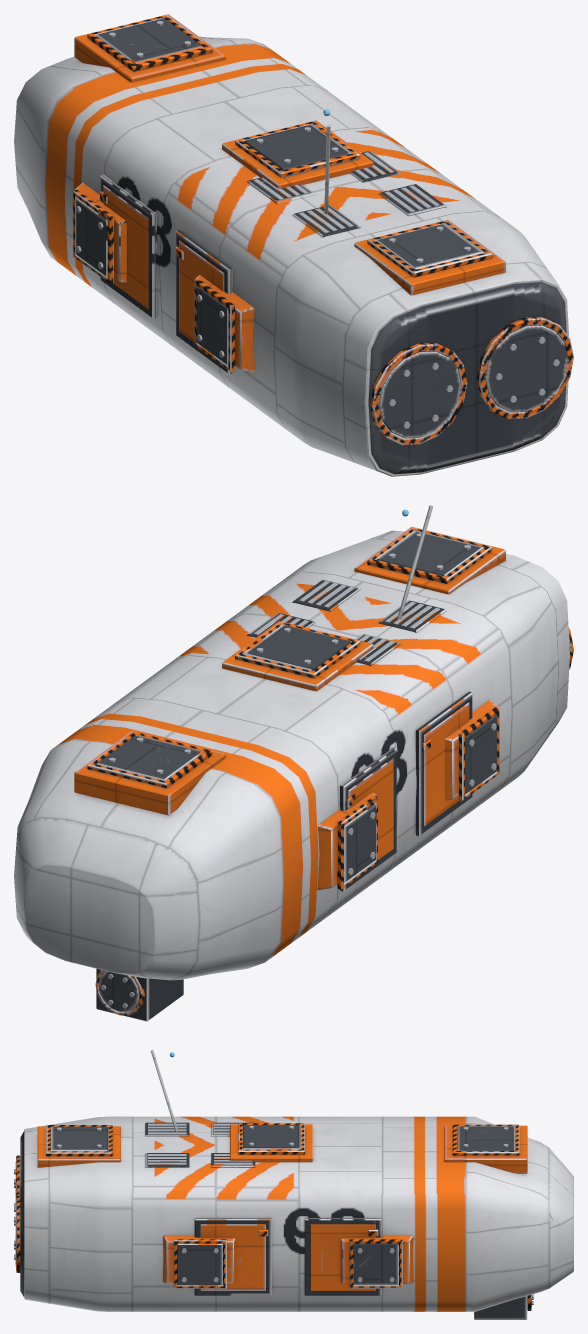
Rendered from casco_transporte_t2.fbx.
The picture shows the model from 3 angles, top to bottom: view 1: azimuth 30°, elevation 25°; view 2: azimuth 150°, elevation 25°; view 3: azimuth 270°, elevation 25°; orthographic projection. The views are drawn at different scales.
Visible parts, largest first — view 1: casco_transporte_t2; view 2: casco_transporte_t2; view 3: casco_transporte_t2.
Boxes of the visible parts, left/top/right/bottom form: casco_transporte_t2: left=14, top=14, right=573, bottom=476; casco_transporte_t2: left=14, top=505, right=573, bottom=1021; casco_transporte_t2: left=14, top=1050, right=573, bottom=1319.
Bounding box in the file's own units: 6.9 × 8.11 × 16.81.
